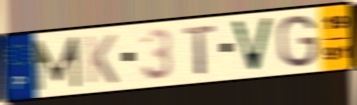3: (137, 26, 173, 83)
G: (276, 13, 321, 70)
K: (83, 33, 120, 86)
M: (31, 34, 83, 93)
T: (183, 23, 218, 77)
V: (228, 16, 276, 74)
